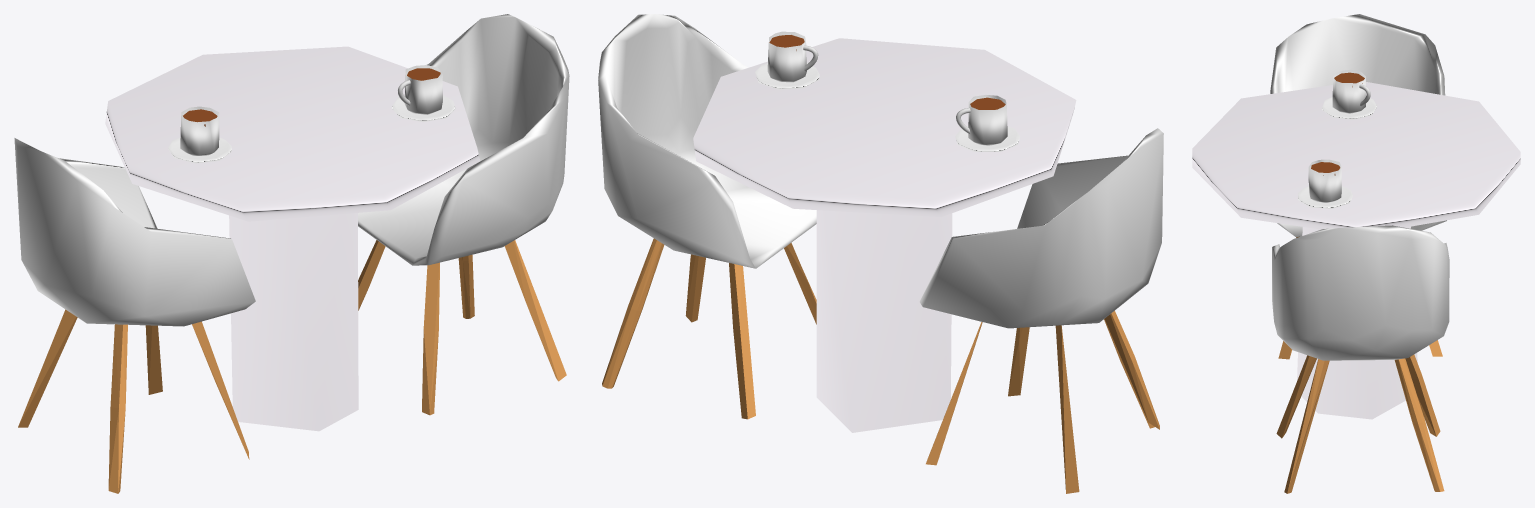
File: X2Cocian.fbx
The picture shows the model from 3 angles, left to right: view 1: azimuth 30°, elevation 25°; view 2: azimuth 150°, elevation 25°; view 3: azimuth 270°, elevation 25°; orthographic projection. The views are drawn at different scales.
Parts seen in each view (by area): view 1: Cilindro, Cilindro.021, Cilindro.024, Cilindro.004, Cilindro.002; view 2: Cilindro, Cilindro.024, Cilindro.021, Cilindro.004, Cilindro.002; view 3: Cilindro, Cilindro.024, Cilindro.021, Cilindro.002, Cilindro.004.
Part boxes in pixels (x1,y1,x2,y2): Cilindro: (105,46,479,431); Cilindro.021: (14,138,255,493); Cilindro.024: (358,14,569,415); Cilindro.004: (168,106,231,163); Cilindro.002: (391,65,455,121); Cilindro: (693,38,1076,432); Cilindro.024: (598,14,816,419); Cilindro.021: (919,128,1163,493); Cilindro.004: (955,95,1020,151); Cilindro.002: (755,31,819,89); Cilindro: (1192,82,1520,419); Cilindro.024: (1272,225,1449,493); Cilindro.021: (1270,14,1446,359); Cilindro.002: (1298,159,1352,208); Cilindro.004: (1322,70,1377,119).
Size of the model in its own units: 579 by 350 by 374.
